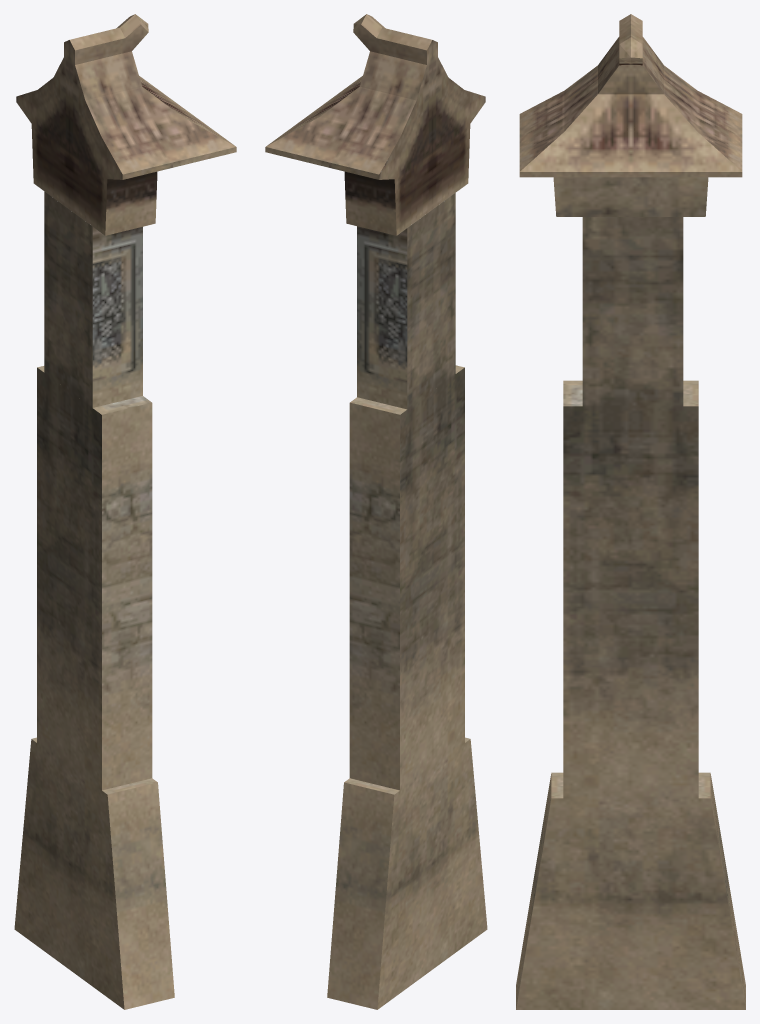
Rendered from desert-middledam-06.glb.
3 renders of one model, left to right at view 1: azimuth 30°, elevation 25°; view 2: azimuth 150°, elevation 25°; view 3: azimuth 270°, elevation 25°, orthographic. The views are drawn at different scales.
Visible parts, largest first — view 1: desert-middledam-02; view 2: desert-middledam-02; view 3: desert-middledam-02.
Part boxes in pixels (left/top/right/bottom): desert-middledam-02: left=14, top=14, right=236, bottom=1009; desert-middledam-02: left=265, top=14, right=487, bottom=1009; desert-middledam-02: left=516, top=14, right=745, bottom=1009.
Bounding box in the file's own units: 1.01 × 8.01 × 1.7.
1 material, 1 textured.
